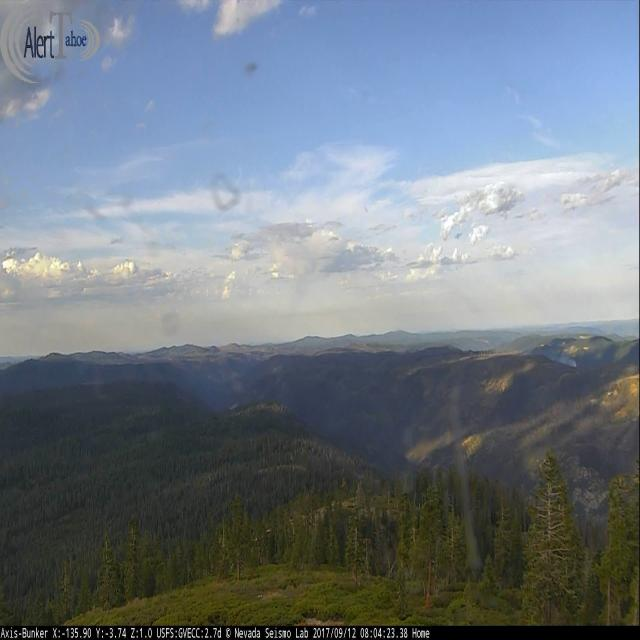smoke: (544, 346, 578, 369)
